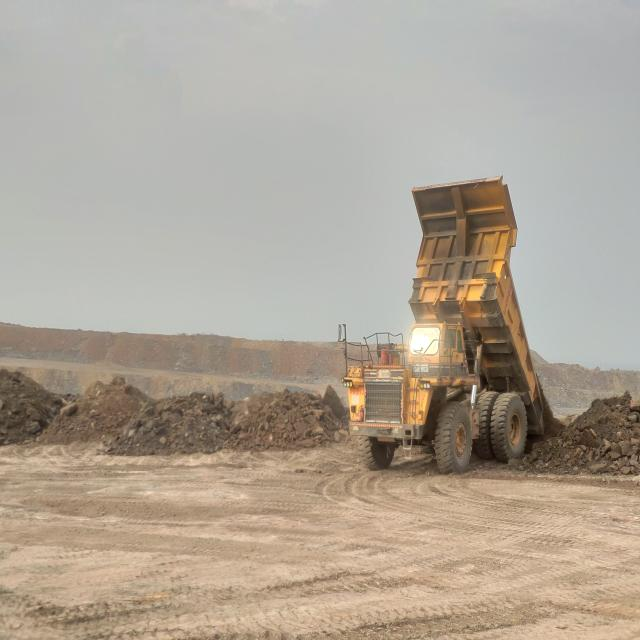dump_truck: (342, 177, 544, 472)
